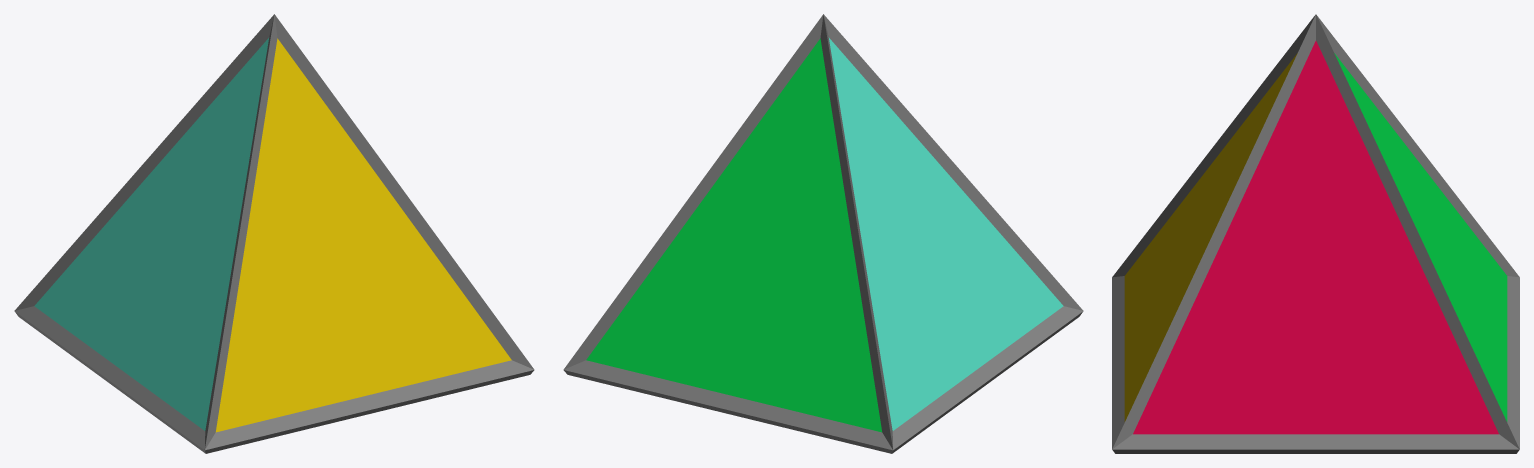
3 views of the same model, side by side, from view 1: azimuth 30°, elevation 25°; view 2: azimuth 150°, elevation 25°; view 3: azimuth 270°, elevation 25° (orthographic). The views are drawn at different scales.
Visible parts, largest first — view 1: Planes, Pyramid; view 2: Planes, Pyramid; view 3: Planes, Pyramid.
Boxes of the visible parts, left/top/right/bottom form: Planes: left=34, top=37, right=511, bottom=432; Pyramid: left=14, top=14, right=534, bottom=453; Planes: left=586, top=37, right=1063, bottom=432; Pyramid: left=563, top=14, right=1083, bottom=453; Planes: left=1124, top=41, right=1507, bottom=434; Pyramid: left=1112, top=14, right=1519, bottom=453.
Bounding box in the file's own units: 444 × 427 × 444.
